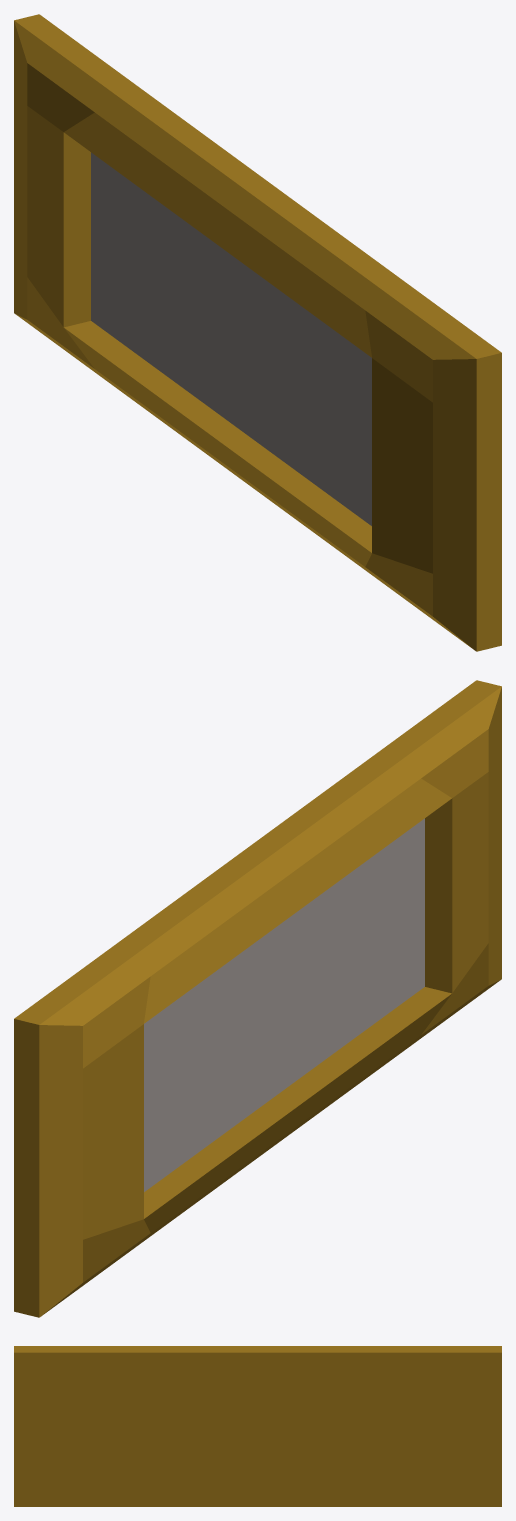
The model's file is drzwisign.fbx.
3 views of the same model, one above another, from view 1: azimuth 30°, elevation 25°; view 2: azimuth 150°, elevation 25°; view 3: azimuth 270°, elevation 25° (orthographic). The views are drawn at different scales.
Visible parts, largest first — view 1: Cube.011; view 2: Cube.011; view 3: Cube.011.
Part boxes in pixels (left/top/right/bottom): Cube.011: left=14, top=14, right=501, bottom=651; Cube.011: left=14, top=680, right=501, bottom=1317; Cube.011: left=14, top=1346, right=501, bottom=1506.
Size of the model in its own units: 2.76 by 14.62 by 41.87.
